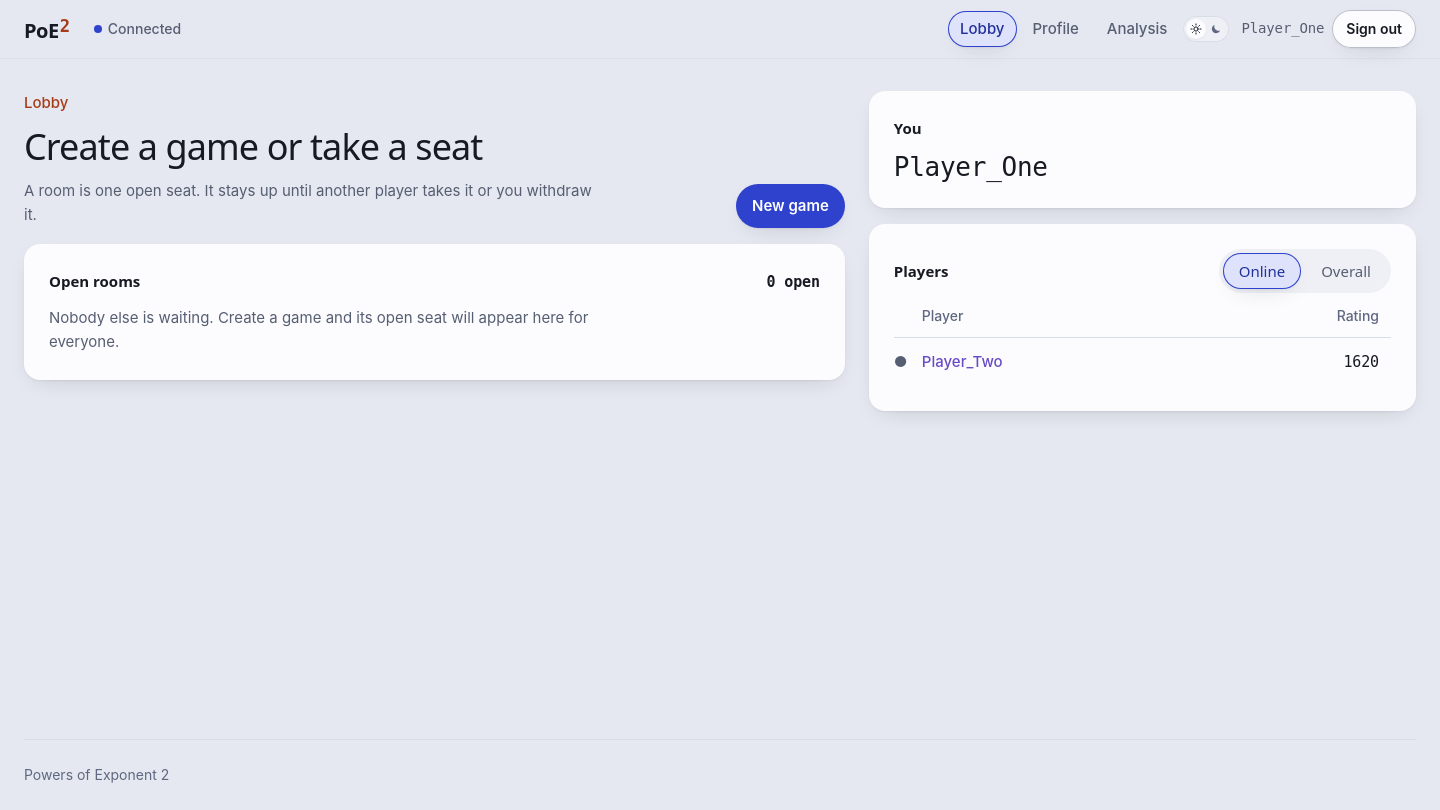
Test: lobby player directory › shows everybody in server order without ranks or a presence column
This screenshot has width=1440, height=810.
Click the radio button labelled "Overall" at (1346,271), box [1321, 261, 1371, 281]
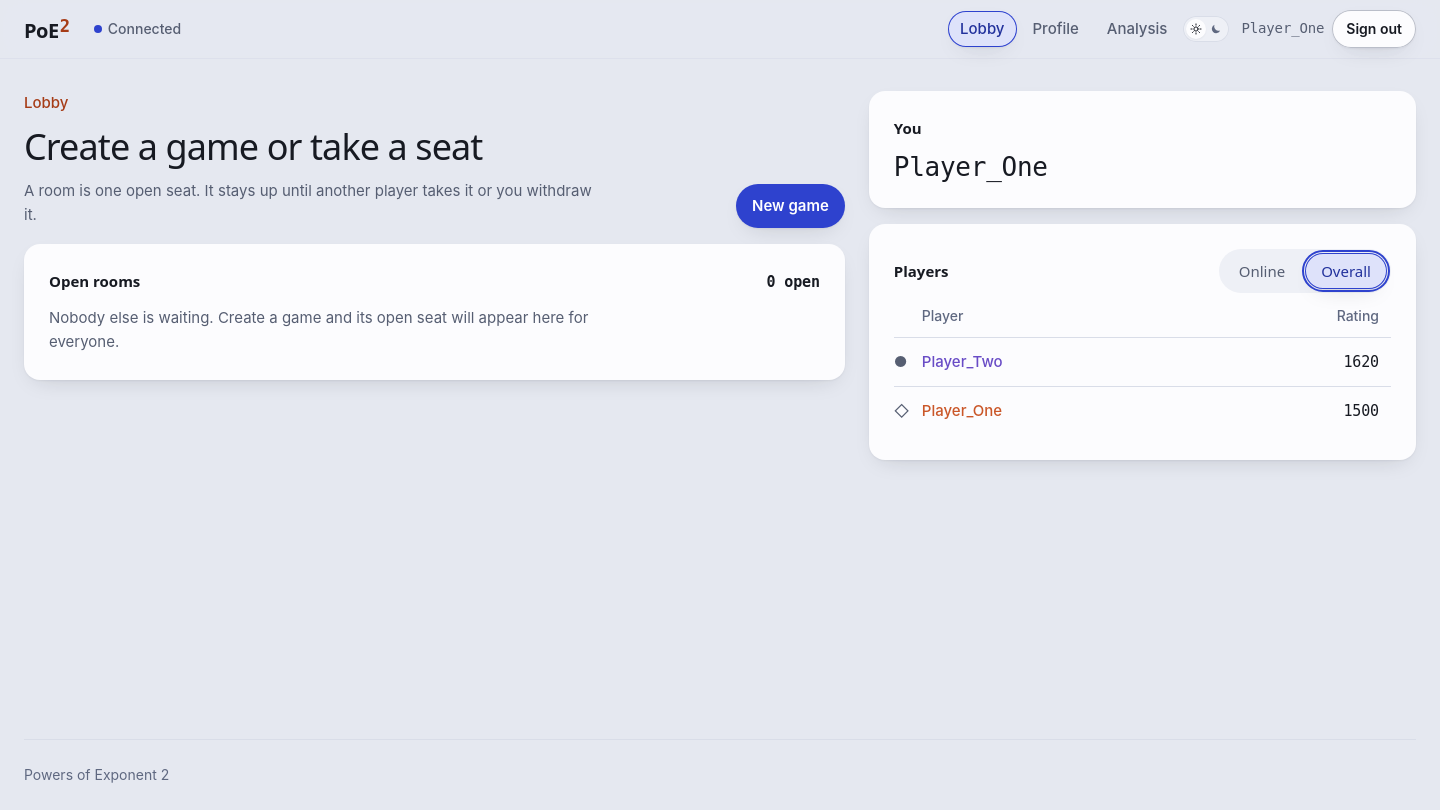
Result: the links read "Player_Two", "Player_One", in this order at [922, 352, 1003, 371]; [922, 401, 1002, 420]
